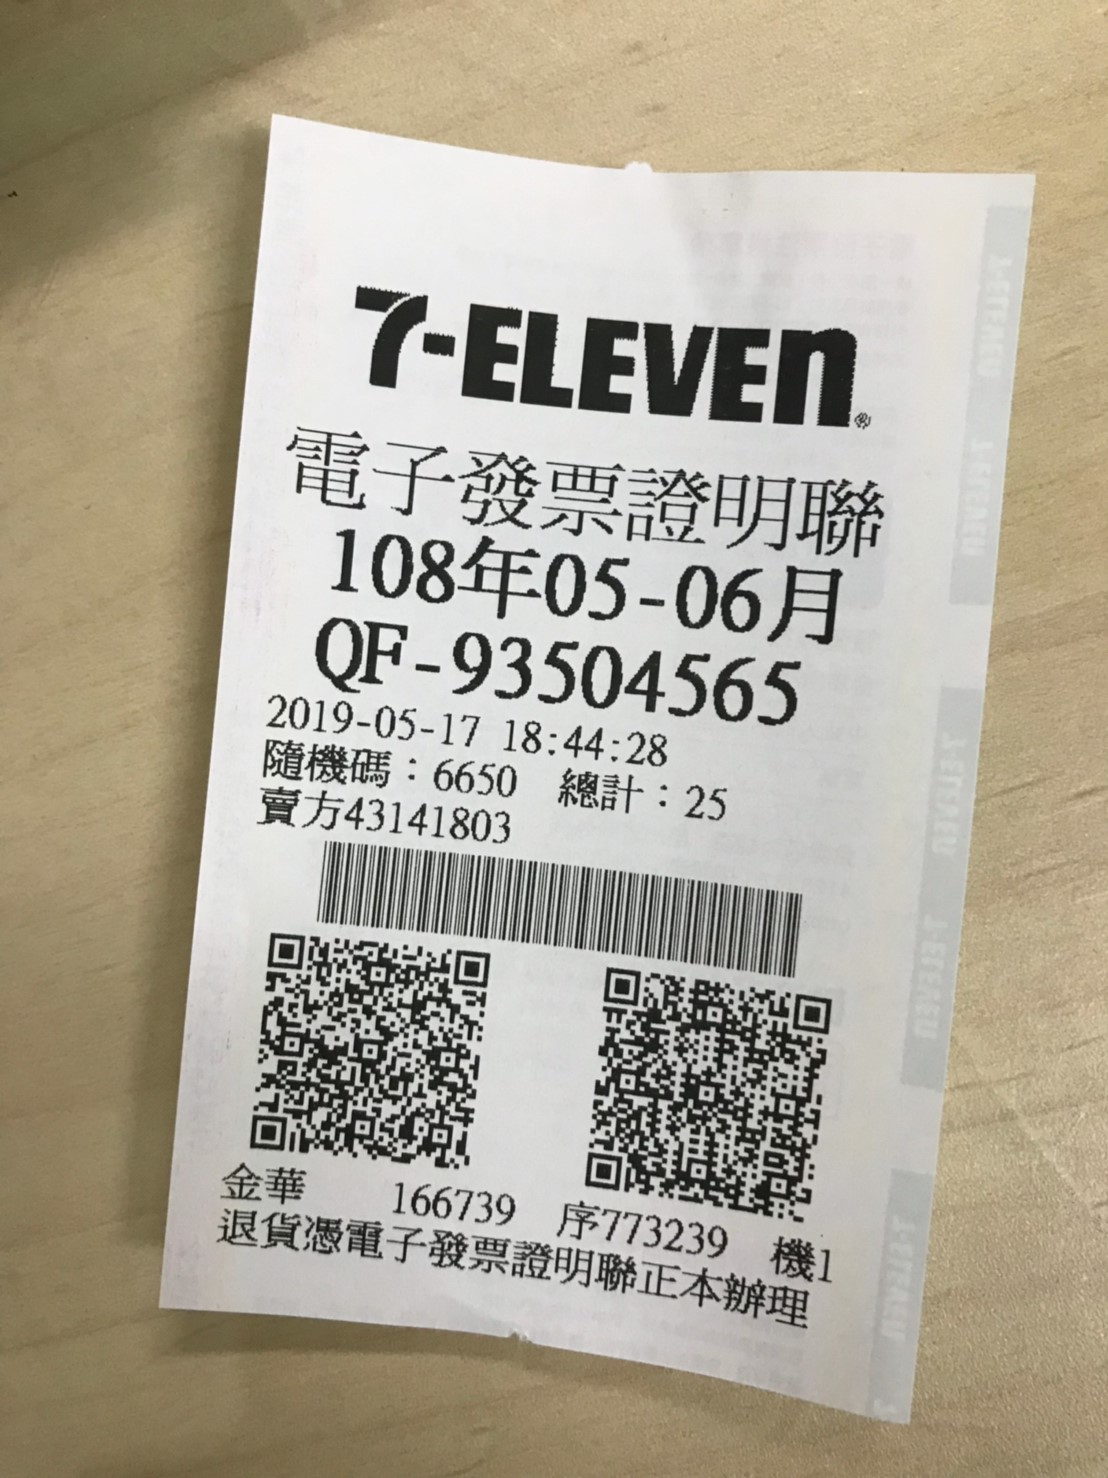Date_New: (324, 521, 841, 649)
Number_New: (452, 626, 800, 731)
